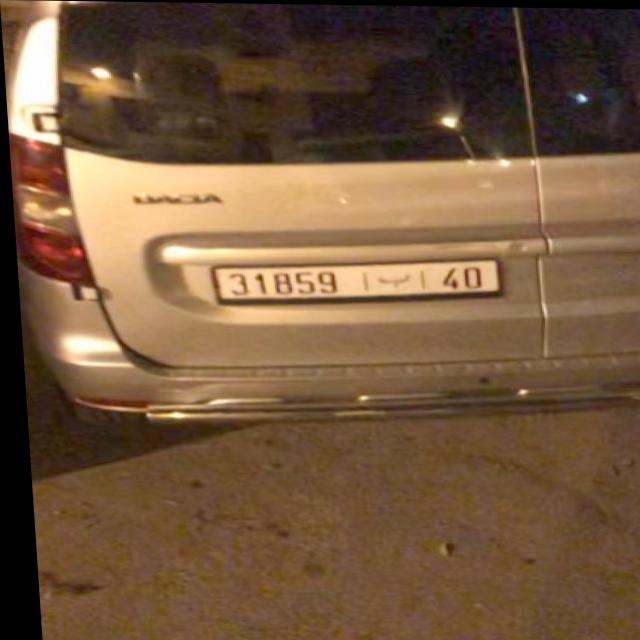License-Plate: (208, 260, 497, 302)
